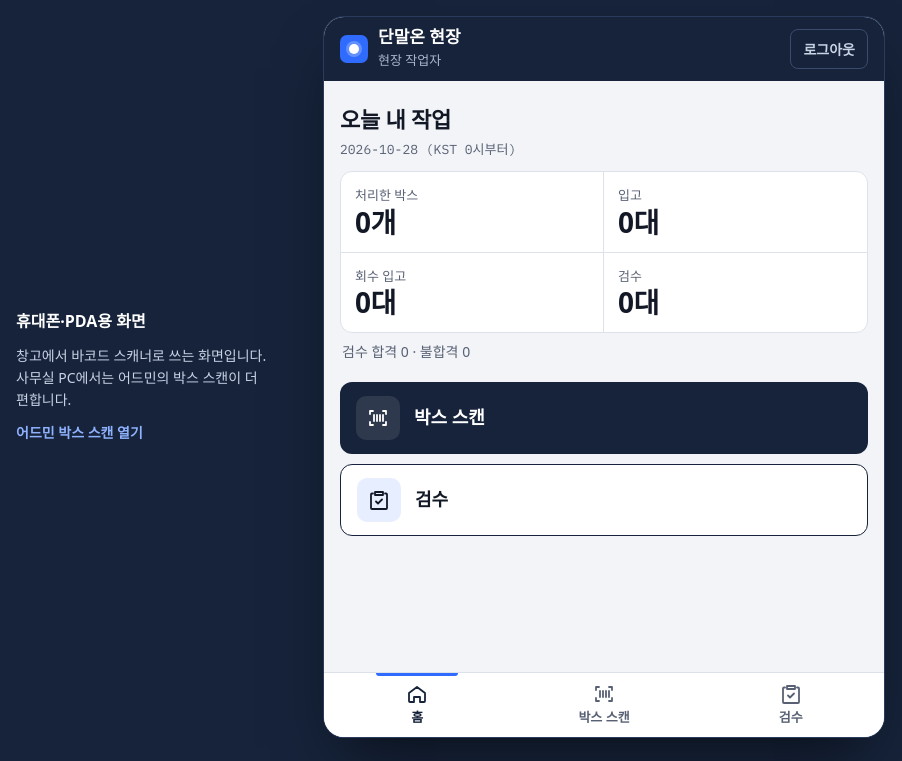
Test: 로그인과 로그아웃 (회귀 방지) › 로그아웃 요청이 실패(500)하면 안내를 보이고 로그인 상태를 유지한다
Click the button "로그아웃": (829, 49) [790,29,868,69]
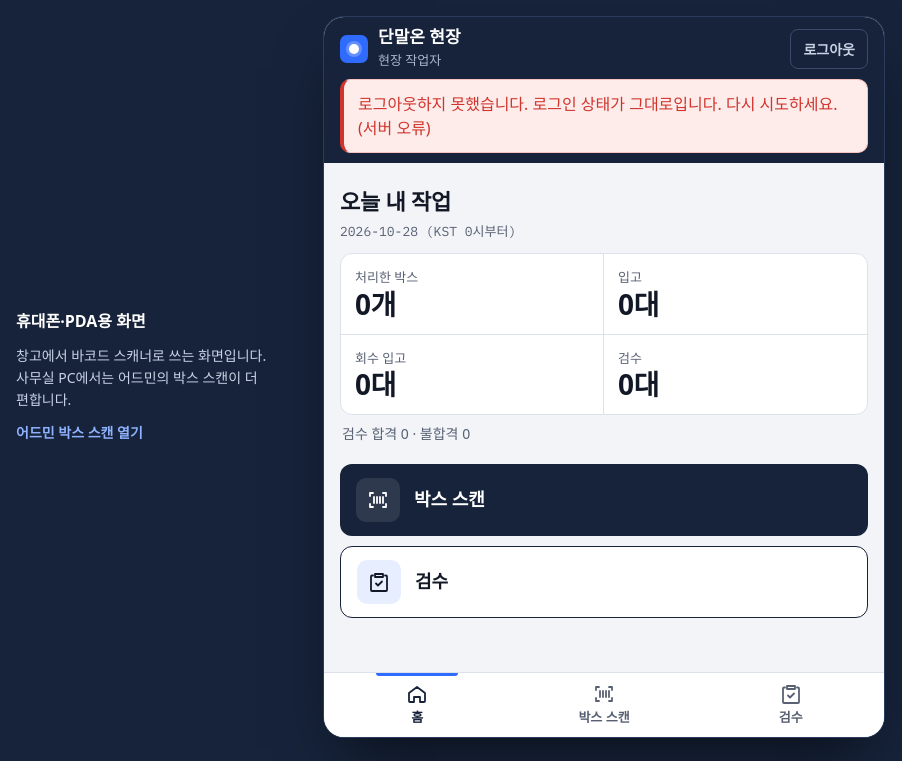
Result: the message shows "로그아웃하지 못했습니다. 로그인 상태가 그대로입니다." at [358,93,837,139]
Result: the message shows "(서버 오류)" at [363,117,426,139]
